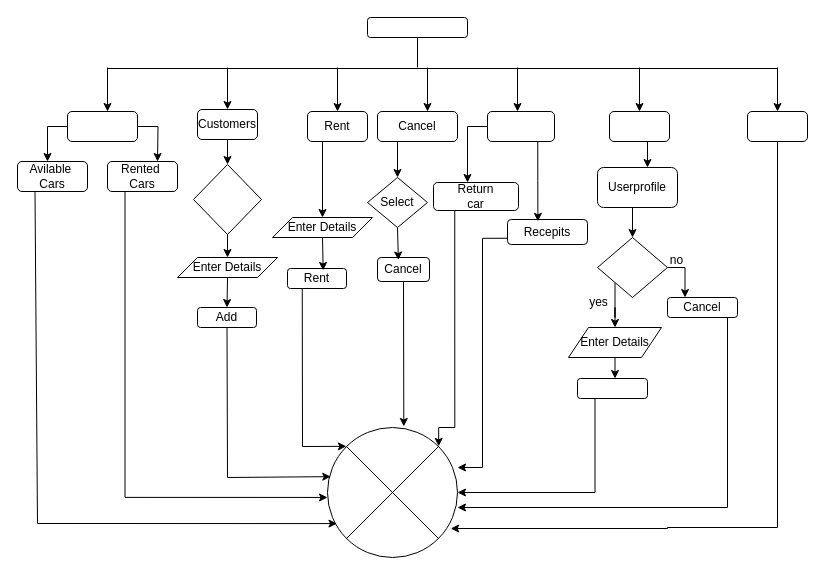
Image size: 825x575. Some labels were removed from this diagram. The shapes that lost their labels are listed below. From the top down, each one's centre as x and y in pixels, then its label:
At (417,27): "User".
At (102,126): "Home".
At (520,126): "CheckIn".
At (639,126): "Settings".
At (777,126): "Logout".
At (227,199): "Asks Details?".
At (632,267): "Change?".
At (612,388): "Save".
